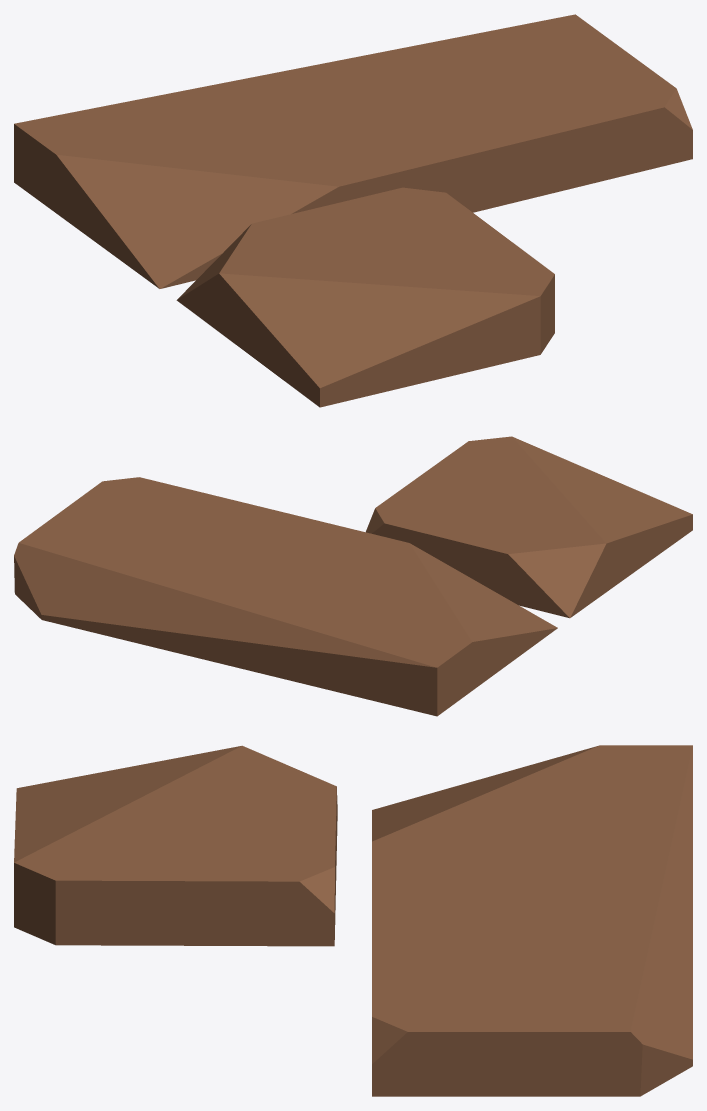
File: Stonewalk_006.FBX
3 renders of one model, top to bottom at view 1: azimuth 30°, elevation 25°; view 2: azimuth 150°, elevation 25°; view 3: azimuth 270°, elevation 25°, orthographic. The views are drawn at different scales.
Parts seen in each view (by area): view 1: Stonewalk_006; view 2: Stonewalk_006; view 3: Stonewalk_006.
Boxes of the visible parts, x1=… form: Stonewalk_006: x1=14, y1=14, x2=692, y2=407; Stonewalk_006: x1=14, y1=436, x2=692, y2=716; Stonewalk_006: x1=14, y1=745, x2=692, y2=1096.
Size of the model in its own units: 37.49 by 3.94 by 37.46.
